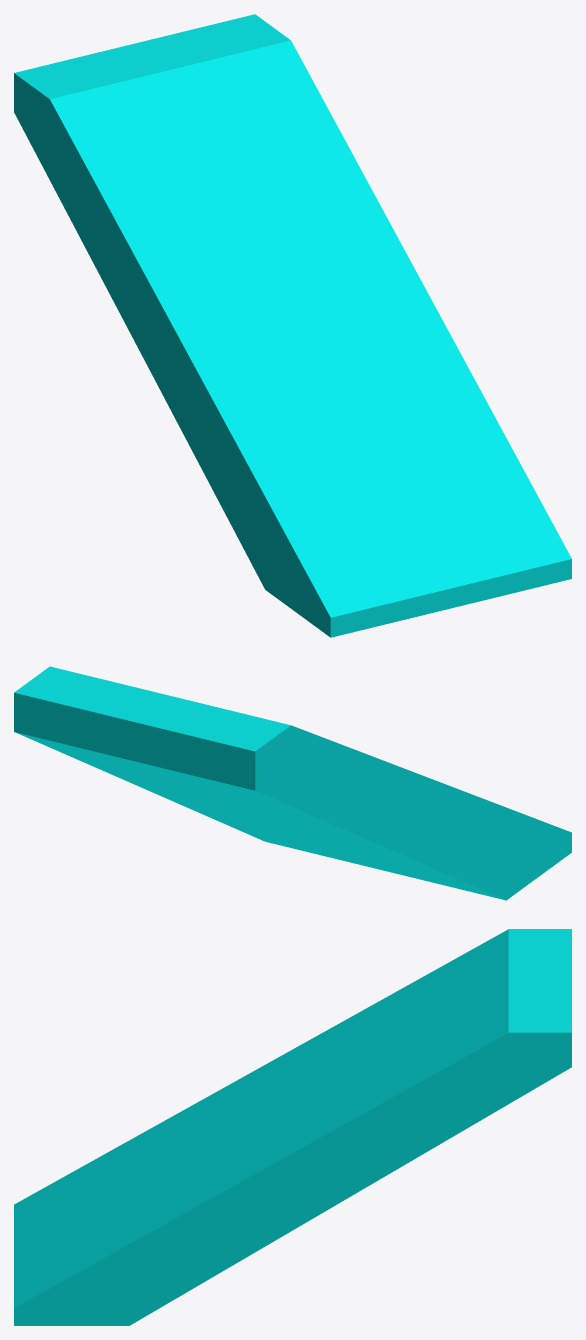
The model's file is SM_Bld_Stairs_02_Collision.fbx.
3 views of the same model, one above another, from view 1: azimuth 30°, elevation 25°; view 2: azimuth 150°, elevation 25°; view 3: azimuth 270°, elevation 25° (orthographic). The views are drawn at different scales.
Parts seen in each view (by area): view 1: SM_Bld_Stairs_02_Collision; view 2: SM_Bld_Stairs_02_Collision; view 3: SM_Bld_Stairs_02_Collision.
Part boxes in pixels (left/top/right/bottom): SM_Bld_Stairs_02_Collision: left=14, top=14, right=571, bottom=637; SM_Bld_Stairs_02_Collision: left=14, top=666, right=571, bottom=900; SM_Bld_Stairs_02_Collision: left=14, top=929, right=571, bottom=1325.
Size of the model in its own units: 119 by 157 by 270.
